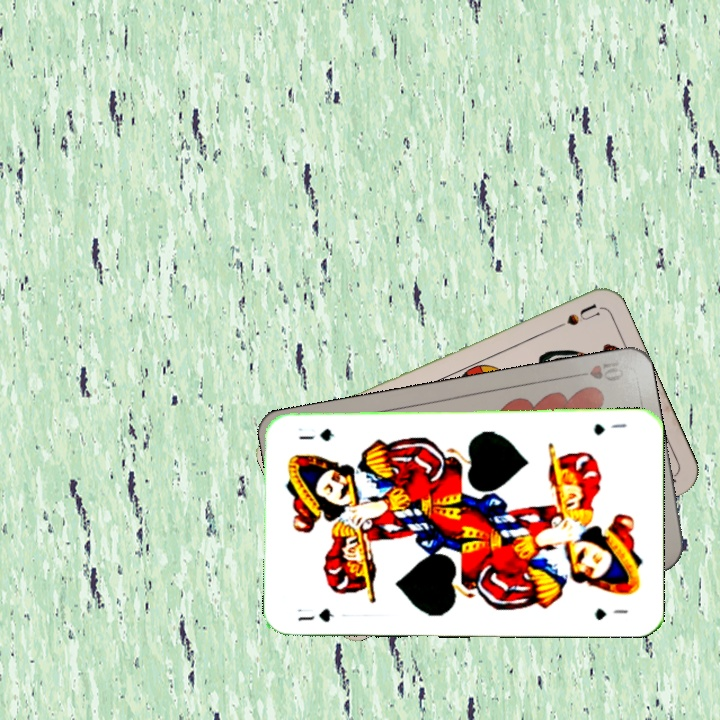GU: (293, 605, 336, 625), (590, 419, 629, 437)
H10: (567, 356, 627, 384)
SU: (544, 300, 602, 335)
